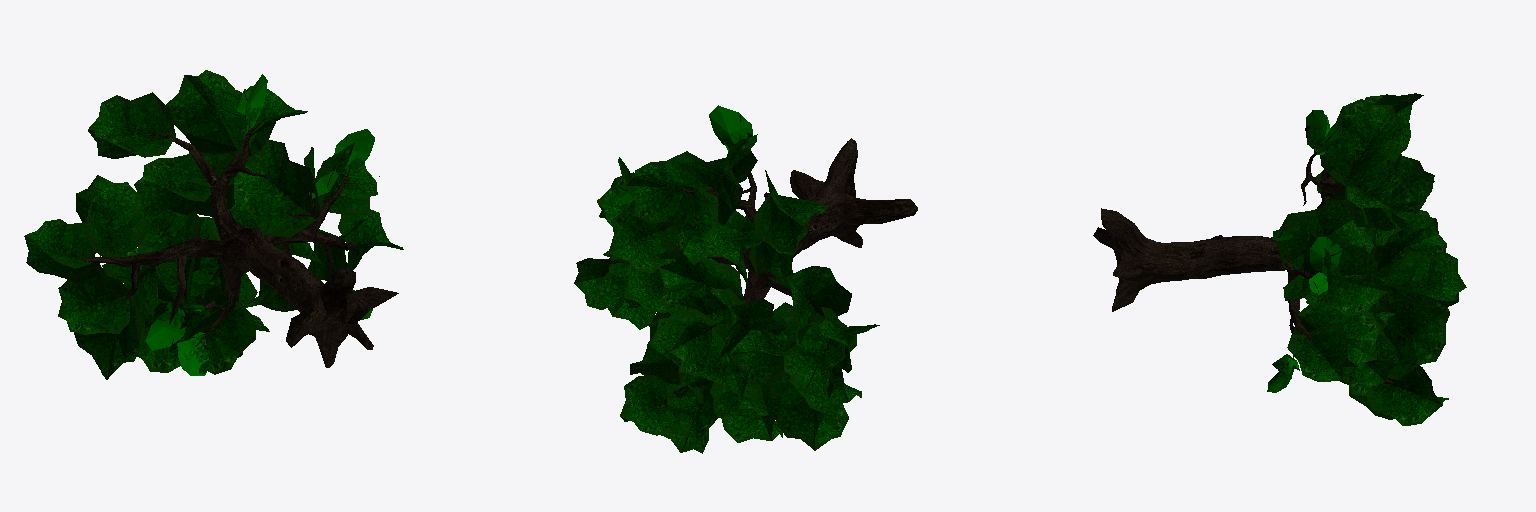
3 renders of one model, left to right at view 1: azimuth 30°, elevation 25°; view 2: azimuth 150°, elevation 25°; view 3: azimuth 270°, elevation 25°, orthographic.
Parts seen in each view (by area): view 1: B_Twist01OutsideNormalOriginalModel_00__Mt_Treeleaf_00, Stump__Mt_Tree_Trunk, Stump__Mt_Tree_Stump, pCube1__Mt_Treeleaf_01; view 2: B_Twist01OutsideNormalOriginalModel_00__Mt_Treeleaf_00, Stump__Mt_Tree_Stump, Stump__Mt_Tree_Trunk, pCube1__Mt_Treeleaf_01; view 3: B_Twist01OutsideNormalOriginalModel_00__Mt_Treeleaf_00, Stump__Mt_Tree_Trunk, Stump__Mt_Tree_Stump, pCube1__Mt_Treeleaf_01.
Boxes of the visible parts, x1=… form: B_Twist01OutsideNormalOriginalModel_00__Mt_Treeleaf_00: x1=24, y1=70, x2=403, y2=379; Stump__Mt_Tree_Trunk: x1=80, y1=120, x2=361, y2=346; Stump__Mt_Tree_Stump: x1=286, y1=267, x2=398, y2=367; pCube1__Mt_Treeleaf_01: x1=145, y1=74, x2=379, y2=375; B_Twist01OutsideNormalOriginalModel_00__Mt_Treeleaf_00: x1=574, y1=138, x2=879, y2=453; Stump__Mt_Tree_Stump: x1=790, y1=138, x2=917, y2=247; Stump__Mt_Tree_Trunk: x1=659, y1=173, x2=846, y2=408; pCube1__Mt_Treeleaf_01: x1=618, y1=105, x2=757, y2=206; B_Twist01OutsideNormalOriginalModel_00__Mt_Treeleaf_00: x1=1277, y1=93, x2=1466, y2=425; Stump__Mt_Tree_Trunk: x1=1171, y1=150, x2=1394, y2=384; Stump__Mt_Tree_Stump: x1=1093, y1=208, x2=1170, y2=311; pCube1__Mt_Treeleaf_01: x1=1267, y1=110, x2=1342, y2=392.
Size of the model in its own units: 11.89 by 10.95 by 11.62.
7 materials, 4 textured.